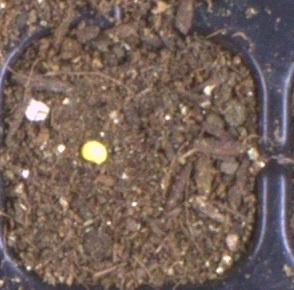chilli seed: (79, 140, 107, 165)
